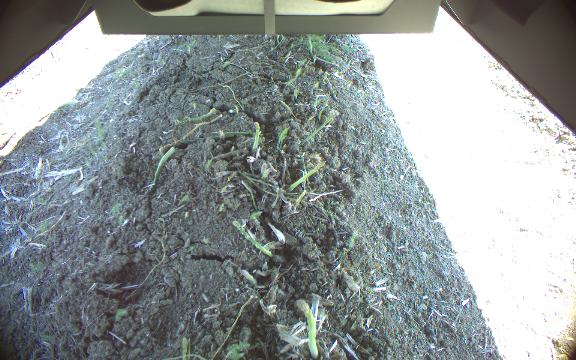aspa: (295, 297, 320, 360), (286, 159, 328, 196), (249, 120, 262, 152)
